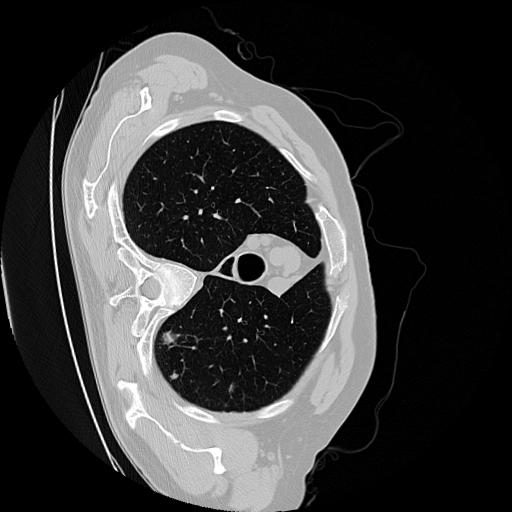nodule: (169, 371, 182, 384)
